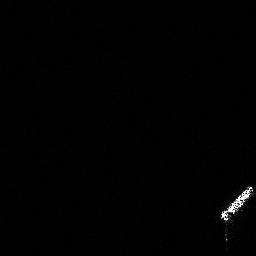ship: (217, 183, 256, 224)
